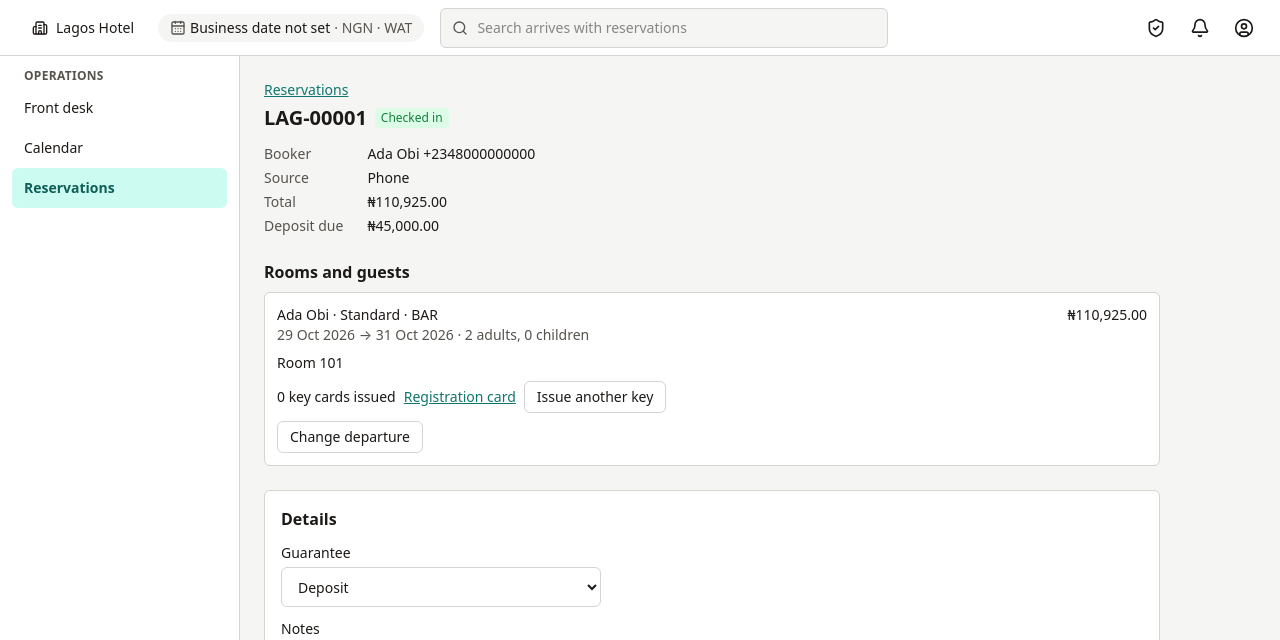
Test: Check-in (M3-08, M3-19; T-051) › issues another key to a checked-in guest
Expected: the text "0 key cards issued" is shown, [277,387,396,407]
Click the button "Issue another key" at point(595, 397), box [524,381,666,413]
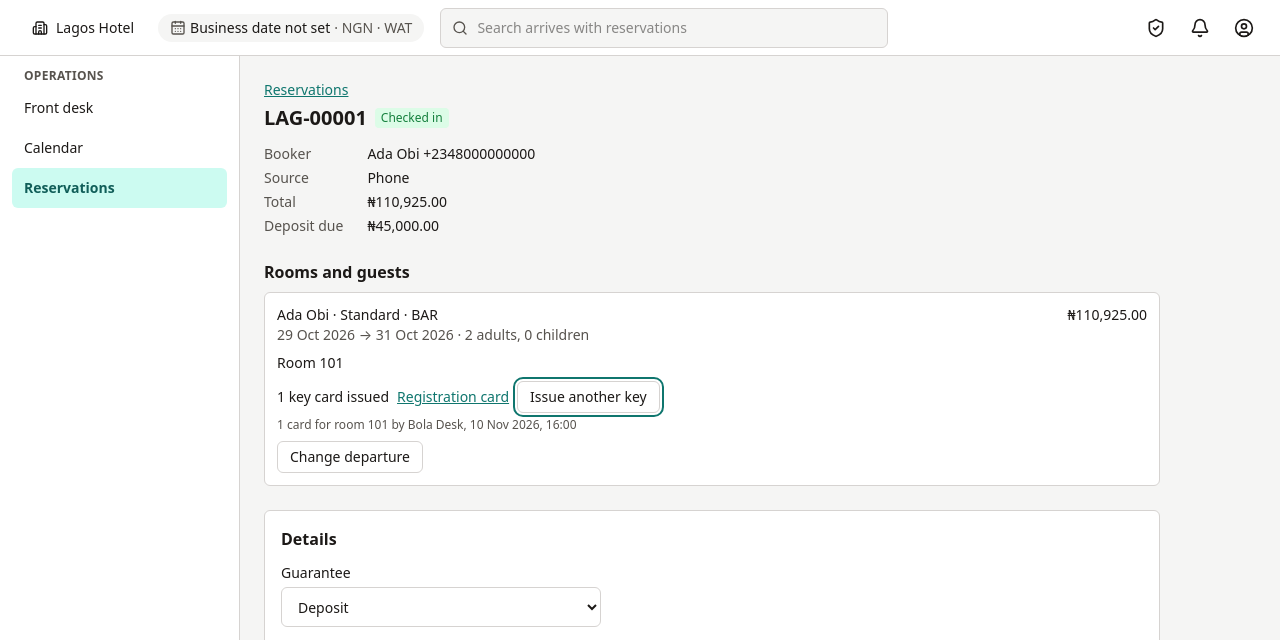
Result: the text "1 key card issued" is shown at [277,387,389,407]
Result: the list named "Key log" shows "1 card for room 101 by Bola Desk" at [277,416,576,433]
